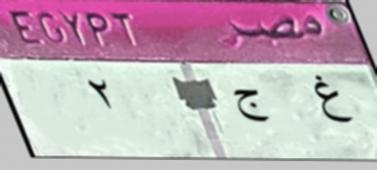2: (80, 76, 125, 113)
ghayn: (307, 69, 354, 128)
jeem: (230, 84, 274, 130)
